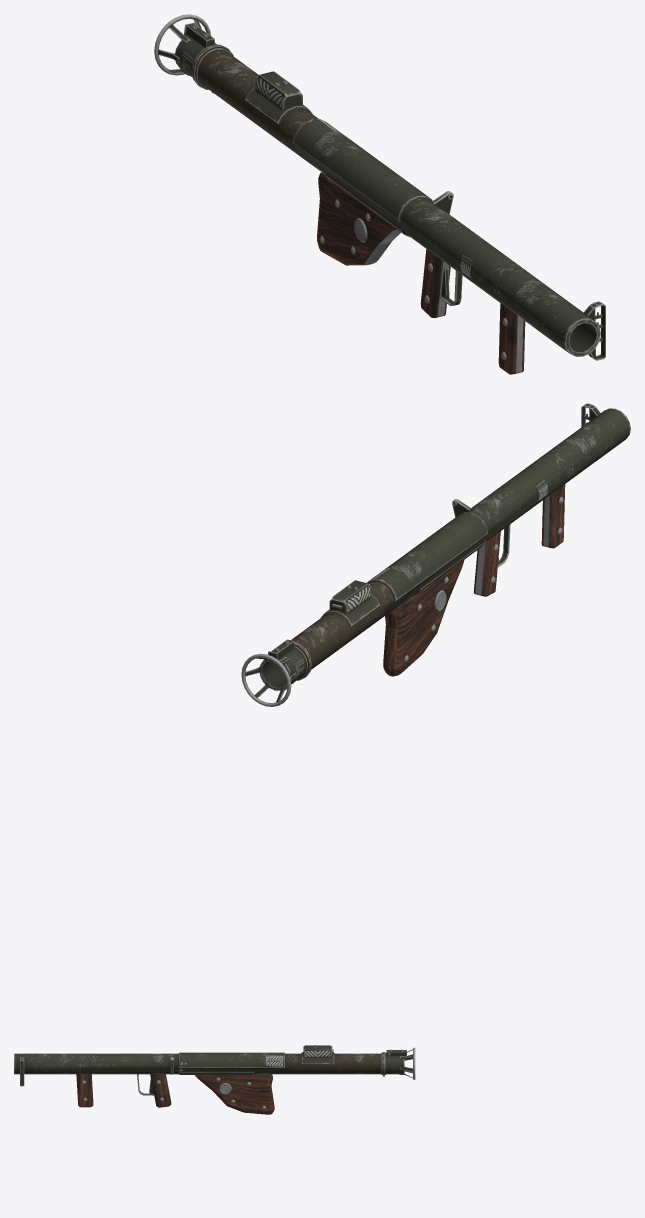
The model's file is m1a1-bazooka.fbx.
3 renders of one model, top to bottom at view 1: azimuth 30°, elevation 25°; view 2: azimuth 150°, elevation 25°; view 3: azimuth 270°, elevation 25°, orthographic. The views are drawn at different scales.
Visible parts, largest first — view 1: SM_Wep_American_RocketLauncher_01_Body_Mat_0; view 2: SM_Wep_American_RocketLauncher_01_Body_Mat_0; view 3: SM_Wep_American_RocketLauncher_01_Body_Mat_0.
Boxes of the visible parts, x1,y1,x2,y2 form: SM_Wep_American_RocketLauncher_01_Body_Mat_0: (154, 14, 605, 374); SM_Wep_American_RocketLauncher_01_Body_Mat_0: (241, 403, 630, 706); SM_Wep_American_RocketLauncher_01_Body_Mat_0: (14, 1045, 415, 1114).
Size of the model in its own units: 20.02 by 52.9 by 212.
1 material, 1 textured.
